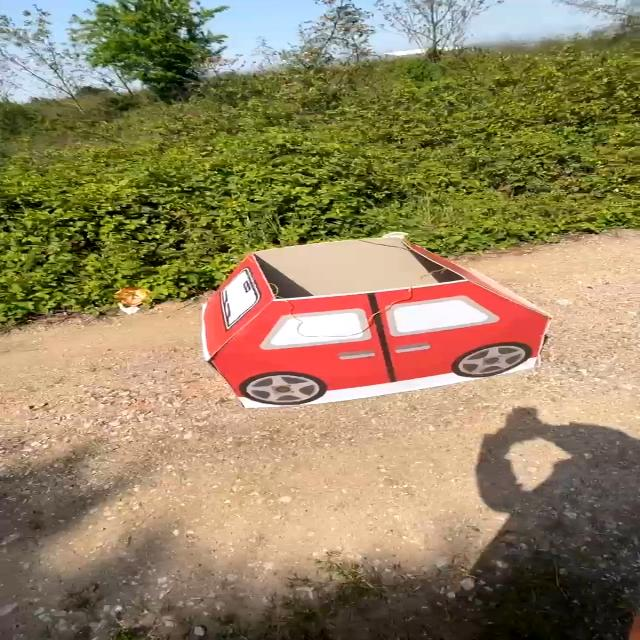red_car: (189, 234, 575, 421)
